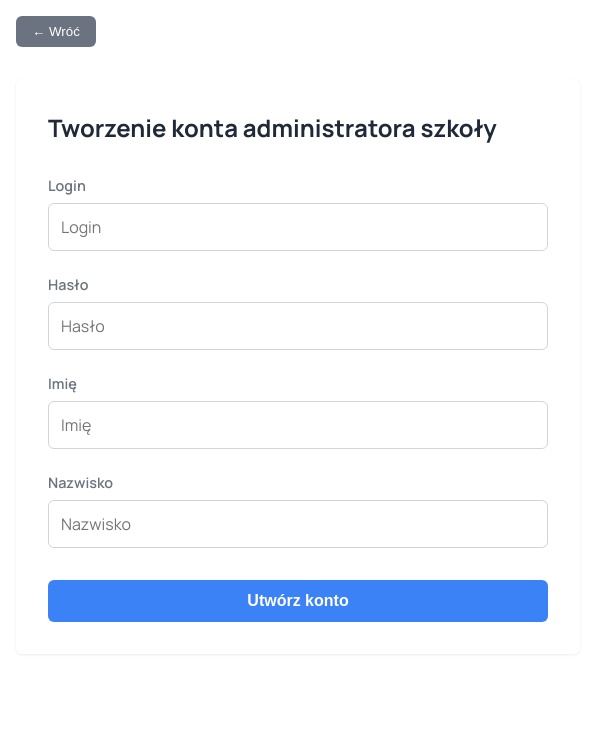
Test: Create school pages › CreateSchoolAdminPage validates password length
Type "admin1" into the field with placeholder "Login" at (298, 227), box [48,203,548,251]
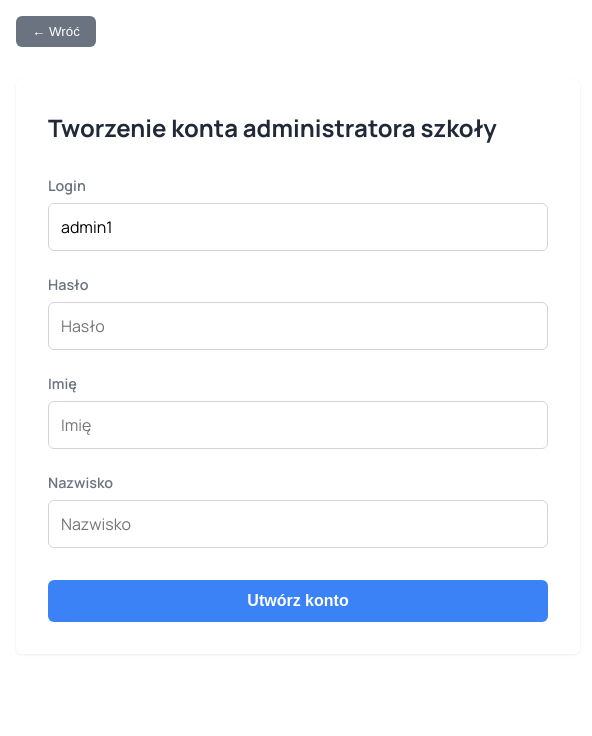
Type "123" into the password field with placeholder "Hasło" at (298, 326), box [48,302,548,350]
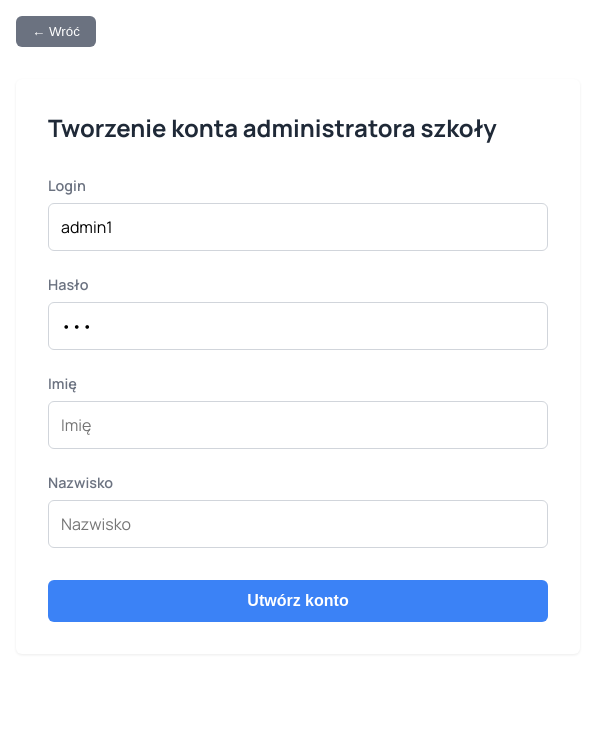
Type "Jan" into the field with placeholder "Imię" at (298, 425), box [48,401,548,449]
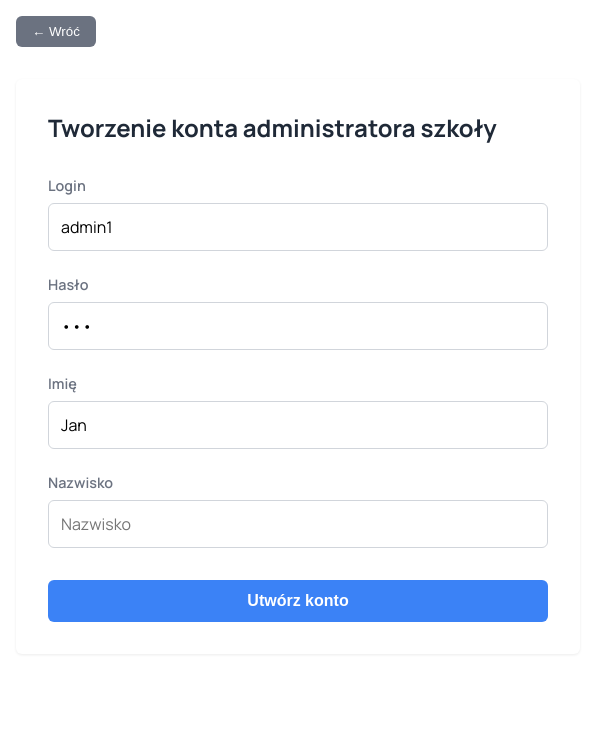
Type "Kowalski" into the field with placeholder "Nazwisko" at (298, 524), box [48,500,548,548]
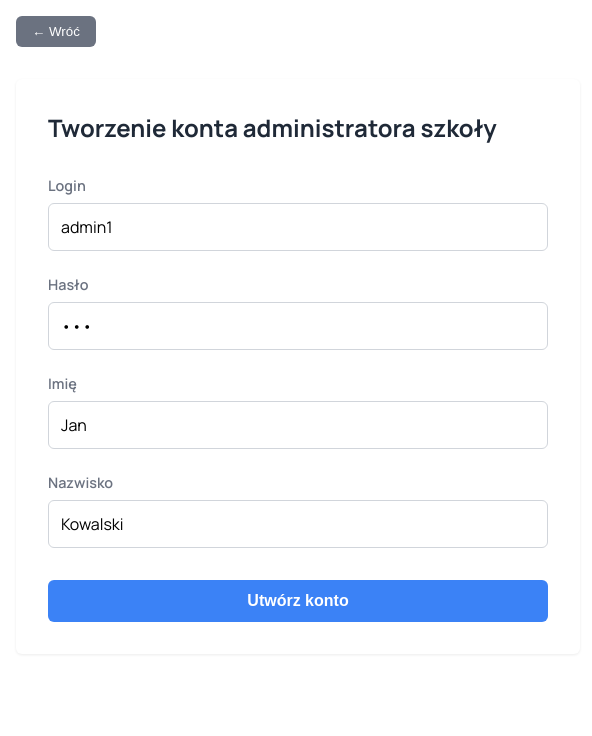
Click the button "Utwórz konto" at (298, 601), box [48,580,548,622]
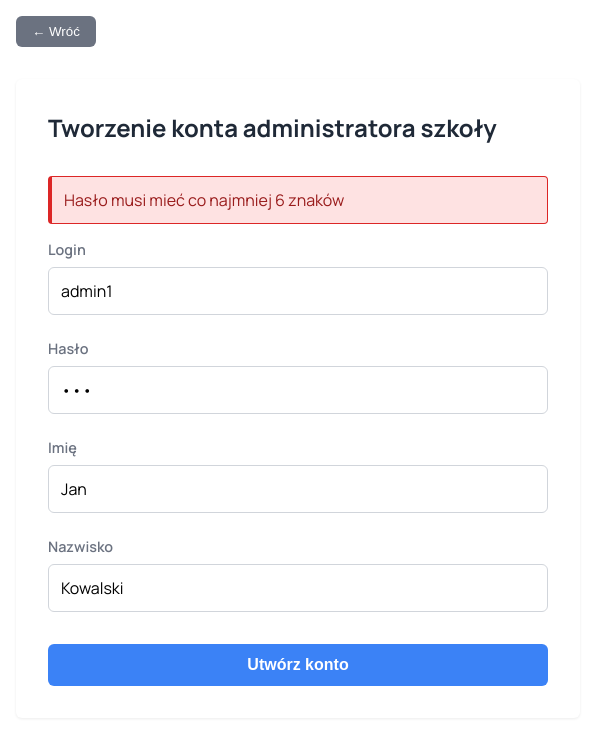
Check: the text "Hasło musi mieć co najmniej 6 znaków" is shown, box [48,176,548,224]
